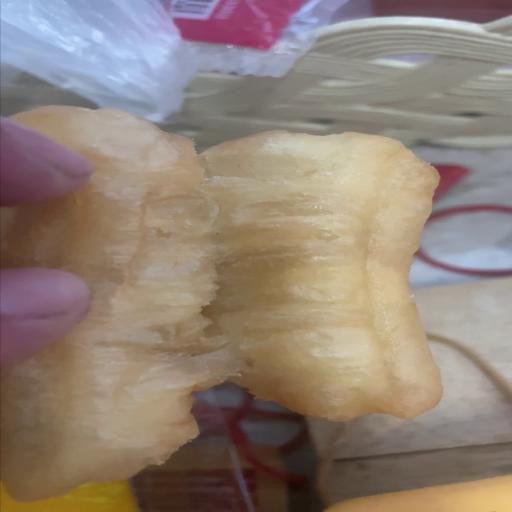street_golden_defect: (0, 123, 443, 510)
